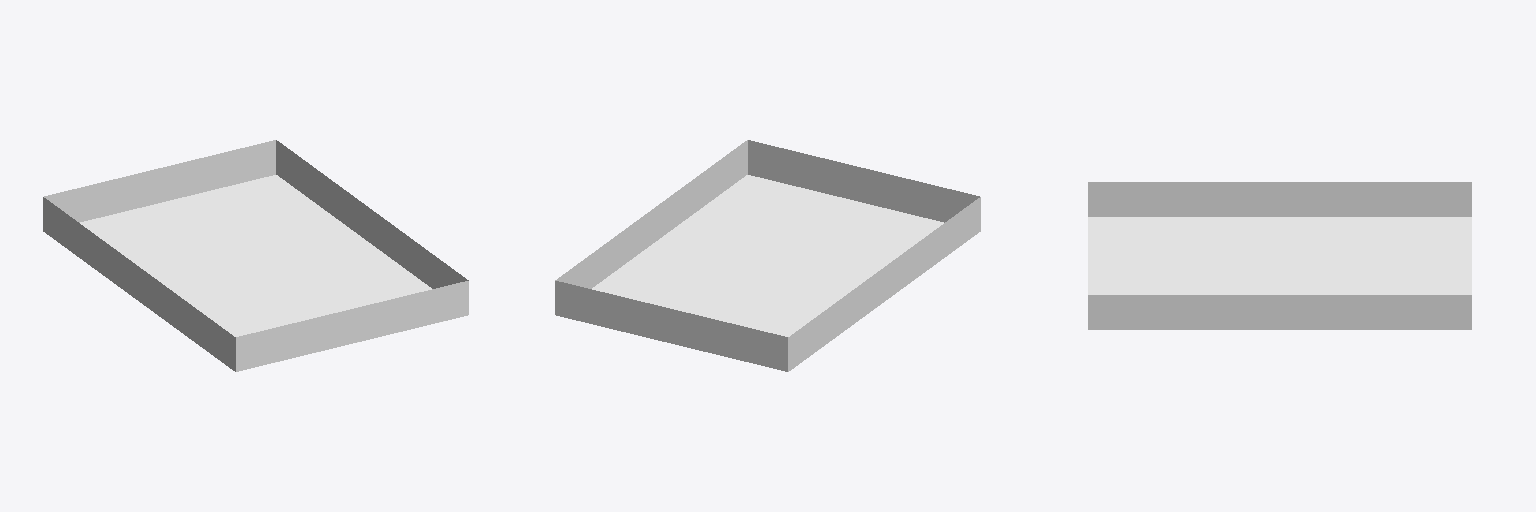
Rendered from Tray.obj.
3 renders of one model, left to right at view 1: azimuth 30°, elevation 25°; view 2: azimuth 150°, elevation 25°; view 3: azimuth 270°, elevation 25°, orthographic.
Parts seen in each view (by area): view 1: Default; view 2: Default; view 3: Default.
Part boxes in pixels (x1,y1,x2,y2): Default: (43,140,468,371); Default: (555,140,980,371); Default: (1088,182,1471,329).
Size of the model in its own units: 0.875 by 0.1252 by 1.25.